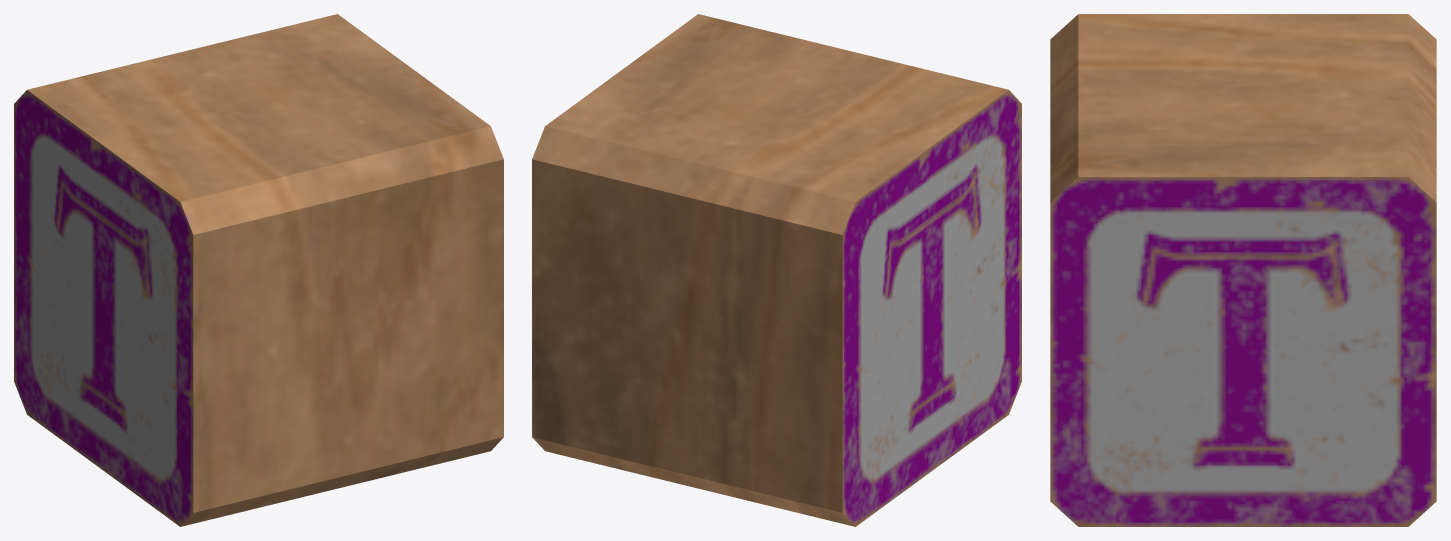
File: ToyBlock_T.fbx
3 renders of one model, left to right at view 1: azimuth 30°, elevation 25°; view 2: azimuth 150°, elevation 25°; view 3: azimuth 270°, elevation 25°, orthographic. The views are drawn at different scales.
Parts seen in each view (by area): view 1: ToyBlockT; view 2: ToyBlockT; view 3: ToyBlockT.
Boxes of the visible parts, left/top/right/bottom form: ToyBlockT: left=14, top=14, right=503, bottom=526; ToyBlockT: left=532, top=14, right=1021, bottom=526; ToyBlockT: left=1050, top=14, right=1436, bottom=526.
Bounding box in the file's own units: 100 × 100 × 100.
Materials: 1 (1 with a texture image).
